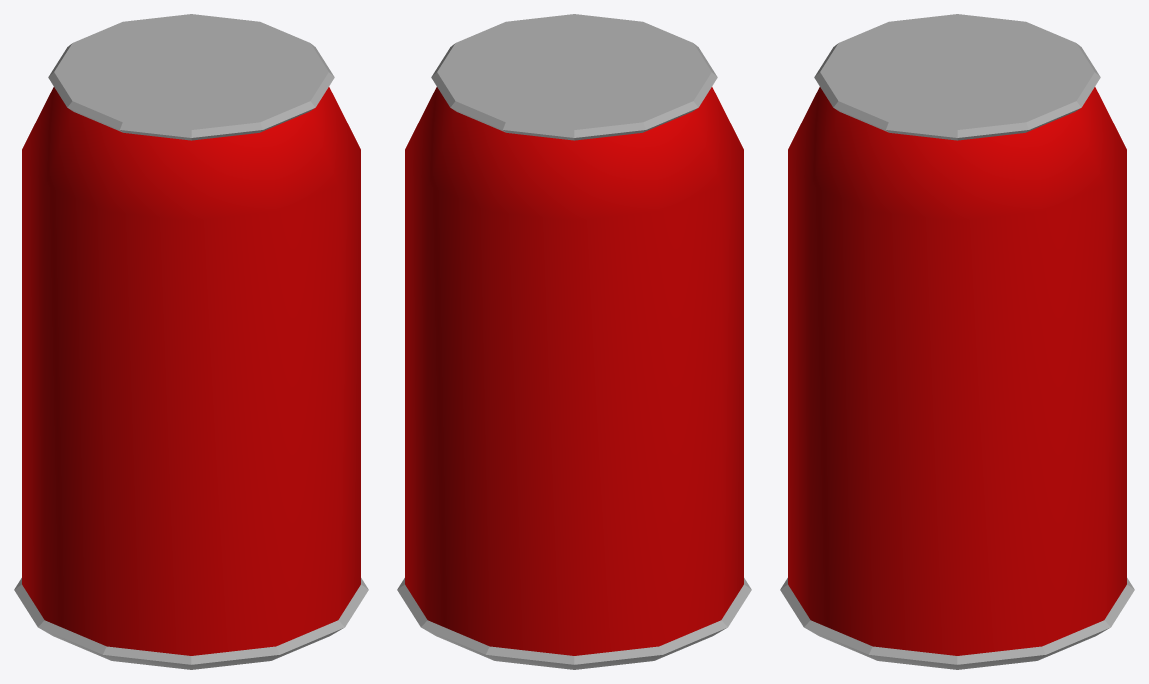
File: Can.fbx
3 renders of one model, left to right at view 1: azimuth 30°, elevation 25°; view 2: azimuth 150°, elevation 25°; view 3: azimuth 270°, elevation 25°, orthographic.
Parts seen in each view (by area): view 1: Can; view 2: Can; view 3: Can.
Part boxes in pixels (x1,y1,x2,y2): Can: [14, 14, 368, 669]; Can: [397, 14, 751, 669]; Can: [780, 14, 1134, 669].
Size of the model in its own units: 0.2211 by 0.3685 by 0.2211.
